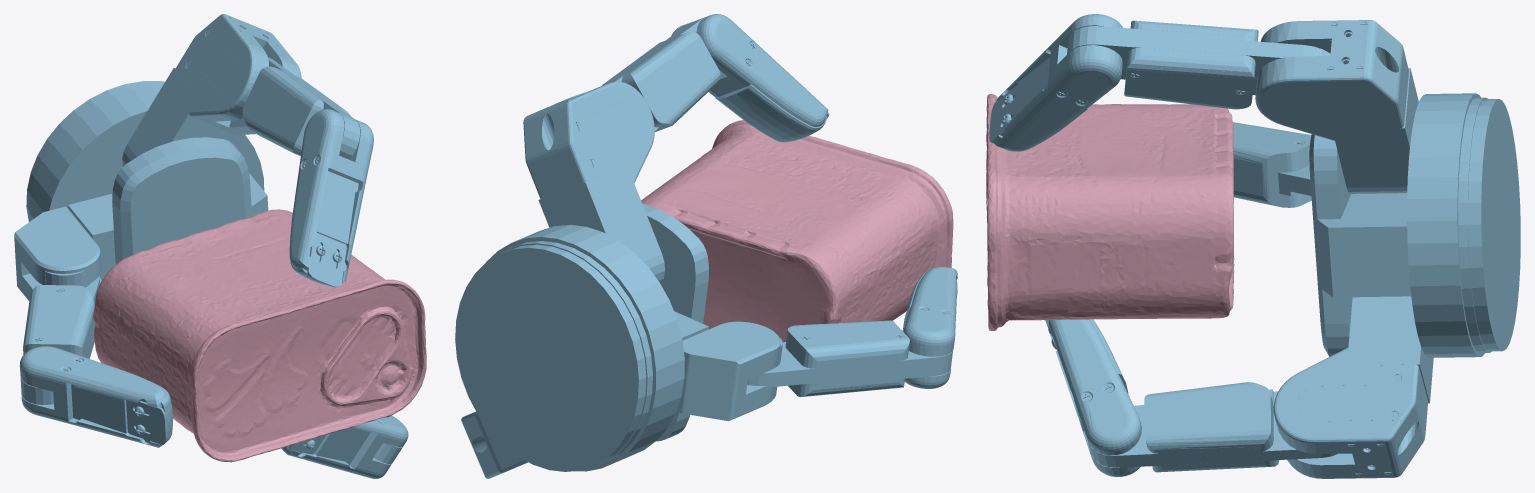
3 views of the same model, side by side, from view 1: azimuth 30°, elevation 25°; view 2: azimuth 150°, elevation 25°; view 3: azimuth 270°, elevation 25° (orthographic). The views are drawn at different scales.
Parts seen in each view (by area): view 1: world; view 2: world; view 3: world.
Boxes of the visible parts, x1,y1,x2,y2 form: world: (14, 14, 426, 478); world: (455, 14, 957, 478); world: (986, 14, 1520, 478).
Size of the model in its own units: 0.167 by 0.1615 by 0.18.
